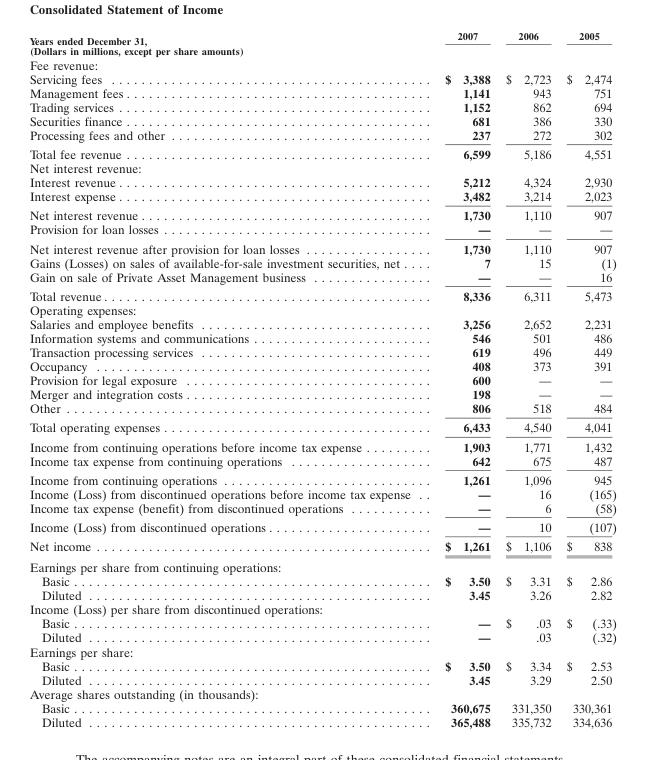table: (28, 29, 615, 728)
table column: (28, 29, 427, 728), (427, 29, 497, 728), (497, 29, 558, 728), (558, 29, 615, 728)
table column header: (28, 29, 615, 45)
table projected row header: (28, 556, 615, 573), (28, 56, 615, 71), (28, 160, 615, 174), (28, 302, 615, 316), (28, 602, 615, 616), (28, 644, 615, 658), (28, 686, 615, 700), (28, 45, 615, 56)
table row: (28, 536, 615, 556), (28, 417, 615, 436), (28, 517, 615, 536), (28, 127, 615, 144), (28, 188, 615, 205), (28, 205, 615, 222), (28, 238, 615, 255), (28, 285, 615, 302), (28, 400, 615, 417), (28, 436, 615, 453), (28, 469, 615, 486), (28, 500, 615, 517), (28, 556, 615, 573), (28, 29, 615, 45), (28, 144, 615, 160), (28, 222, 615, 238), (28, 269, 615, 285), (28, 453, 615, 469), (28, 56, 615, 71), (28, 573, 615, 588), (28, 71, 615, 85), (28, 85, 615, 99), (28, 99, 615, 113), (28, 113, 615, 127), (28, 160, 615, 174), (28, 174, 615, 188), (28, 255, 615, 269), (28, 302, 615, 316), (28, 316, 615, 330), (28, 330, 615, 344), (28, 344, 615, 358), (28, 358, 615, 372), (28, 372, 615, 386), (28, 386, 615, 400), (28, 486, 615, 500), (28, 588, 615, 602), (28, 602, 615, 616), (28, 616, 615, 630), (28, 630, 615, 644), (28, 644, 615, 658), (28, 658, 615, 672), (28, 672, 615, 686), (28, 686, 615, 700), (28, 700, 615, 714), (28, 714, 615, 728), (28, 45, 615, 56)
